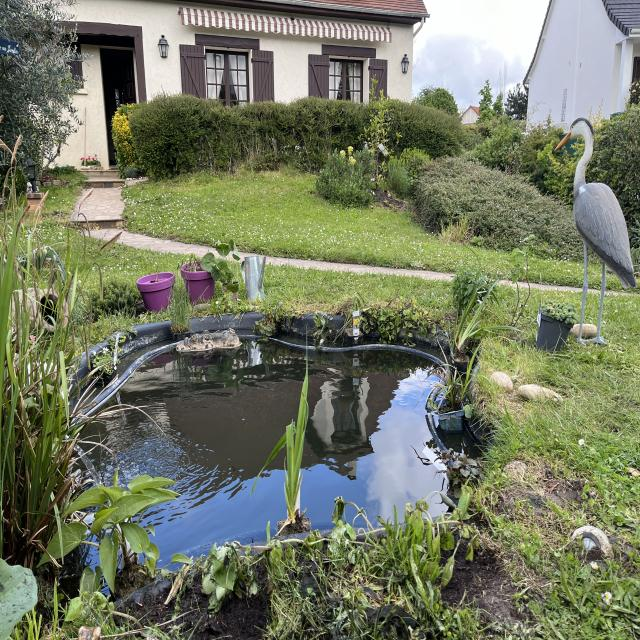Heron: (552, 108, 638, 370)
